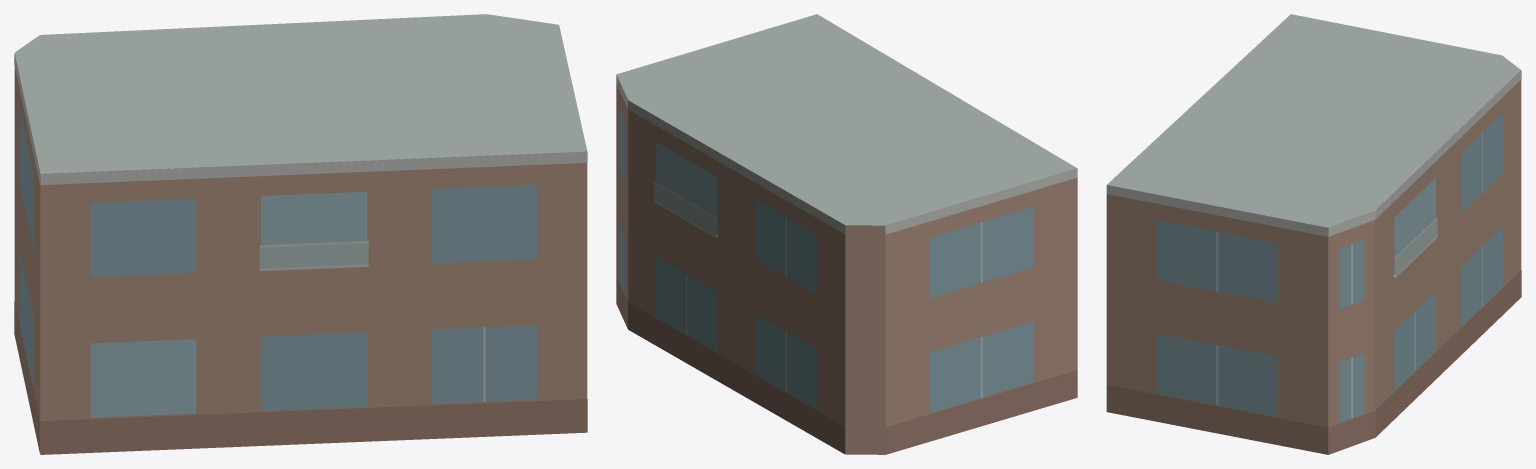
Rendered from survey-upis-32654683.glb.
3 views of the same model, side by side, from view 1: azimuth 30°, elevation 25°; view 2: azimuth 150°, elevation 25°; view 3: azimuth 270°, elevation 25° (orthographic). The views are drawn at different scales.
Visible parts, largest first — view 1: survey-upis-32654683.tmp; view 2: survey-upis-32654683.tmp; view 3: survey-upis-32654683.tmp.
Boxes of the visible parts, x1,y1,x2,y2 form: survey-upis-32654683.tmp: (14, 14, 587, 454); survey-upis-32654683.tmp: (616, 14, 1077, 454); survey-upis-32654683.tmp: (1106, 14, 1521, 454).
Size of the model in its own units: 12.32 by 6.1 by 10.1.
